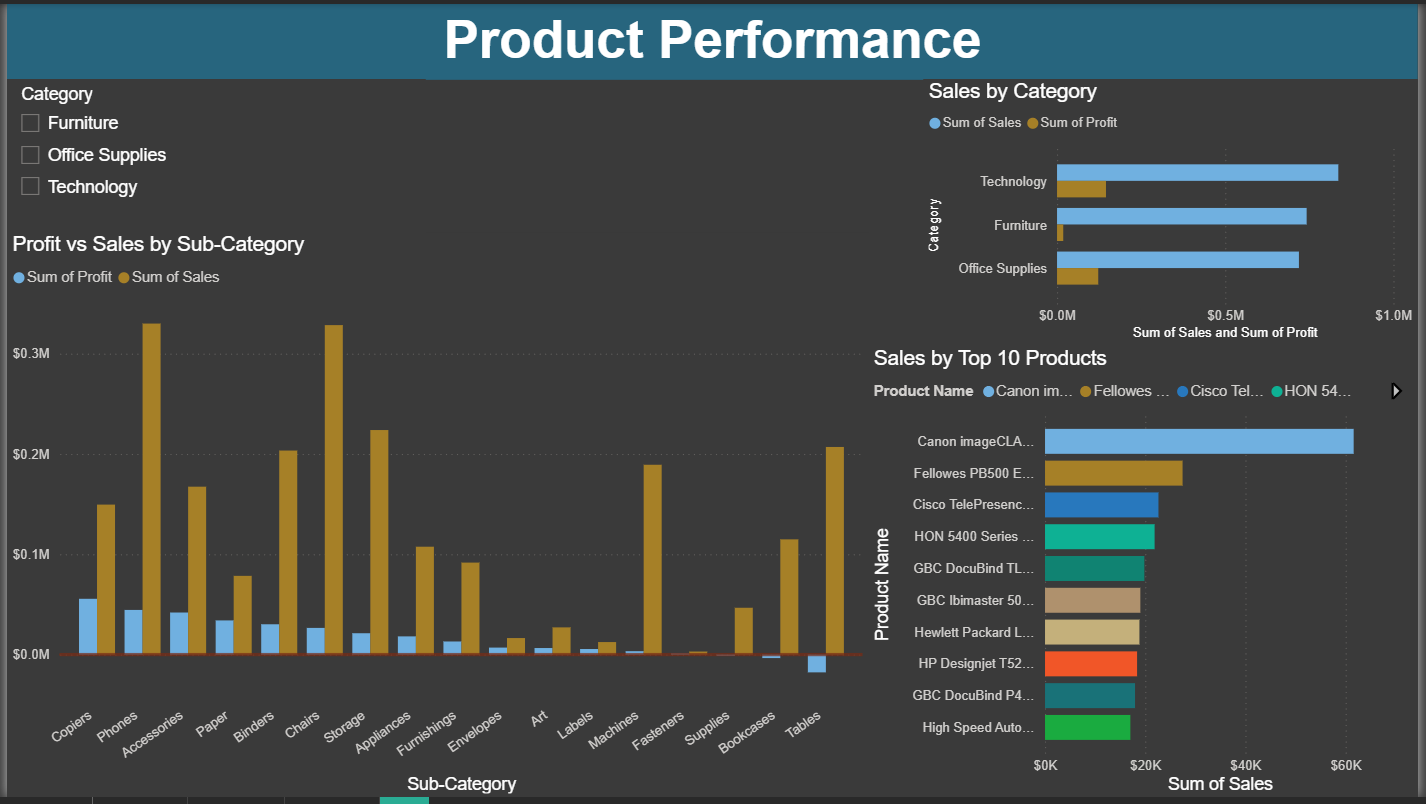

The page's visual inventory and layout, read from the dashboard file:
{"tool":"powerbi","page":{"name":"Page 2","canvas":[1280,720],"ordinal":1},"visuals":[{"type":"textbox","box":[0,0,1280.3,68.6],"z":0},{"type":"clusteredColumnChart","title":"Profit vs Sales by Sub-Category","fields":{"Category":["Sheet1.Sub-Category"],"Y":["Sum(Sheet1.Profit)","Sum(Sheet1.Sales)"]},"box":[0,207.6,781.5,513.8],"z":1},{"type":"barChart","title":"Sales by Top 10 Products","fields":{"Y":["Sum(Sheet1.Sales)"],"Category":["Sheet1.Product Name"],"Series":["Sheet1.Product Name"]},"box":[781.4,310.5,498.8,410.5],"z":2},{"type":"slicer","fields":{"Values":["Sheet1.Category"]},"box":[0,68.1,380,139.5],"z":4},{"type":"clusteredBarChart","title":"Sales by Category","fields":{"Category":["Sheet1.Category"],"Y":["Sum(Sheet1.Sales)","Sum(Sheet1.Profit)"]},"box":[831.4,68.6,448.8,241.9],"z":5}]}

Visuals, with their boxes in screenshot pixels (x1, y1, x2, y2), scaled from the page's 1280x720 canvas onto the 1426x804 screenshot:
textbox: Rect(0, 0, 1425, 77)
"Profit vs Sales by Sub-Category" clusteredColumnChart: Rect(0, 232, 871, 803)
"Sales by Top 10 Products" barChart: Rect(871, 347, 1425, 803)
slicer - Sheet1.Category: Rect(0, 76, 423, 232)
"Sales by Category" clusteredBarChart: Rect(926, 77, 1425, 347)
